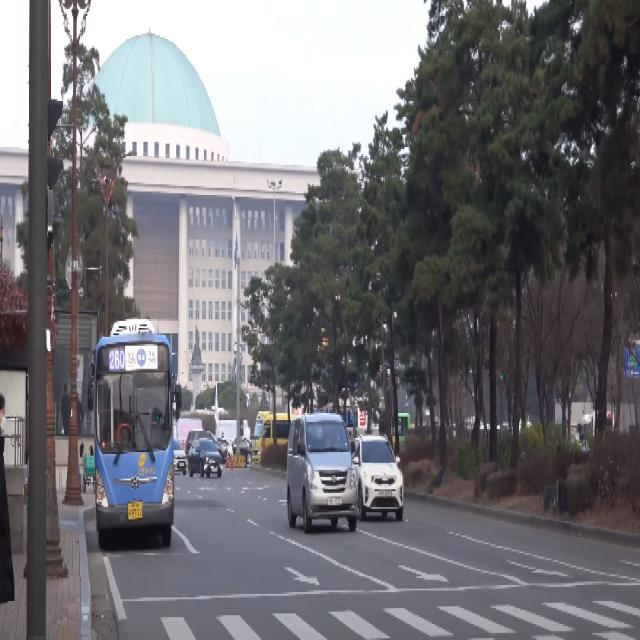bus-number: (109, 350, 125, 370)
